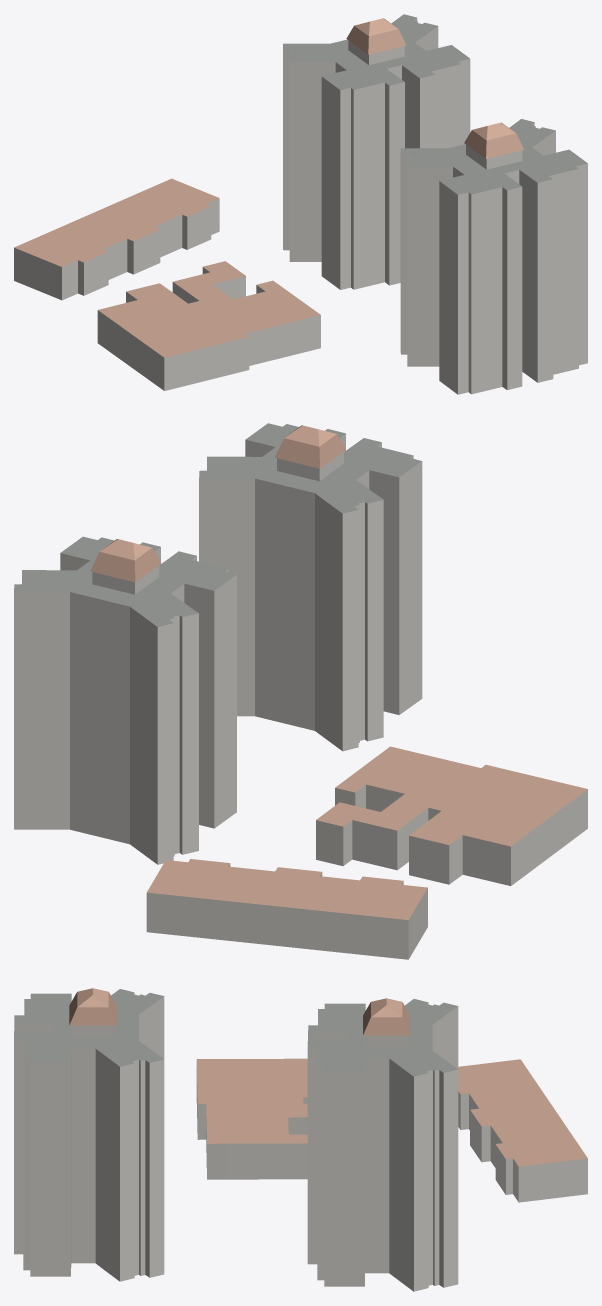
File: gridID_31.dae
The picture shows the model from 3 angles, top to bottom: view 1: azimuth 30°, elevation 25°; view 2: azimuth 150°, elevation 25°; view 3: azimuth 270°, elevation 25°; orthographic projection. The views are drawn at different scales.
Parts seen in each view (by area): view 1: model_gridID_31_w399692309, model_gridID_31_w399692313, model_gridID_31_w389667160, model_gridID_31_w389667159_003, model_gridID_31_w389667159_004, model_gridID_31_w389667162_001, model_gridID_31_w389667159, model_gridID_31_w389667159_002; view 2: model_gridID_31_w399692313, model_gridID_31_w399692309, model_gridID_31_w389667160, model_gridID_31_w389667159_004, model_gridID_31_w389667159_003, model_gridID_31_w389667162_001, model_gridID_31_w389667159_002, model_gridID_31_w389667159; view 3: model_gridID_31_w399692313, model_gridID_31_w399692309, model_gridID_31_w389667160, model_gridID_31_w389667159_004, model_gridID_31_w389667159_003.
Part boxes in pixels (box(x1,y1,x2,y2)): model_gridID_31_w399692309: box(400, 119, 587, 394); model_gridID_31_w399692313: box(283, 14, 470, 289); model_gridID_31_w389667160: box(14, 178, 219, 300); model_gridID_31_w389667159_003: box(114, 301, 249, 390); model_gridID_31_w389667159_004: box(172, 272, 320, 365); model_gridID_31_w389667162_001: box(97, 300, 153, 354); model_gridID_31_w389667159: box(202, 261, 245, 299); model_gridID_31_w389667159_002: box(126, 283, 179, 306); model_gridID_31_w399692313: box(14, 536, 236, 864); model_gridID_31_w399692309: box(199, 423, 422, 751); model_gridID_31_w389667160: box(146, 859, 427, 959); model_gridID_31_w389667159_004: box(335, 746, 480, 870); model_gridID_31_w389667159_003: box(428, 765, 587, 871); model_gridID_31_w389667162_001: box(462, 820, 530, 885); model_gridID_31_w389667159_002: box(409, 818, 472, 884); model_gridID_31_w389667159: box(316, 802, 366, 866); model_gridID_31_w399692313: box(307, 998, 458, 1291); model_gridID_31_w399692309: box(14, 988, 164, 1281); model_gridID_31_w389667160: box(458, 1059, 587, 1202); model_gridID_31_w389667159_004: box(206, 1103, 307, 1179); model_gridID_31_w389667159_003: box(196, 1058, 303, 1139).
Size of the model in its own units: 88.58 by 109 by 52.57.
